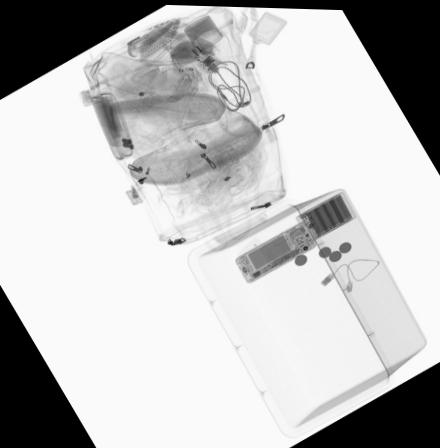Powerbank: (292, 188, 355, 243)
